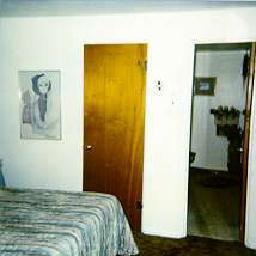Cama: (2, 187, 126, 252)
Puerta: (85, 44, 142, 203)
